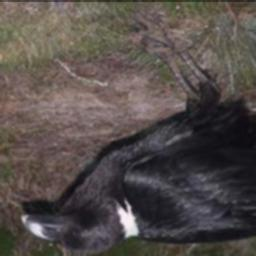Crow: (20, 11, 256, 256)
